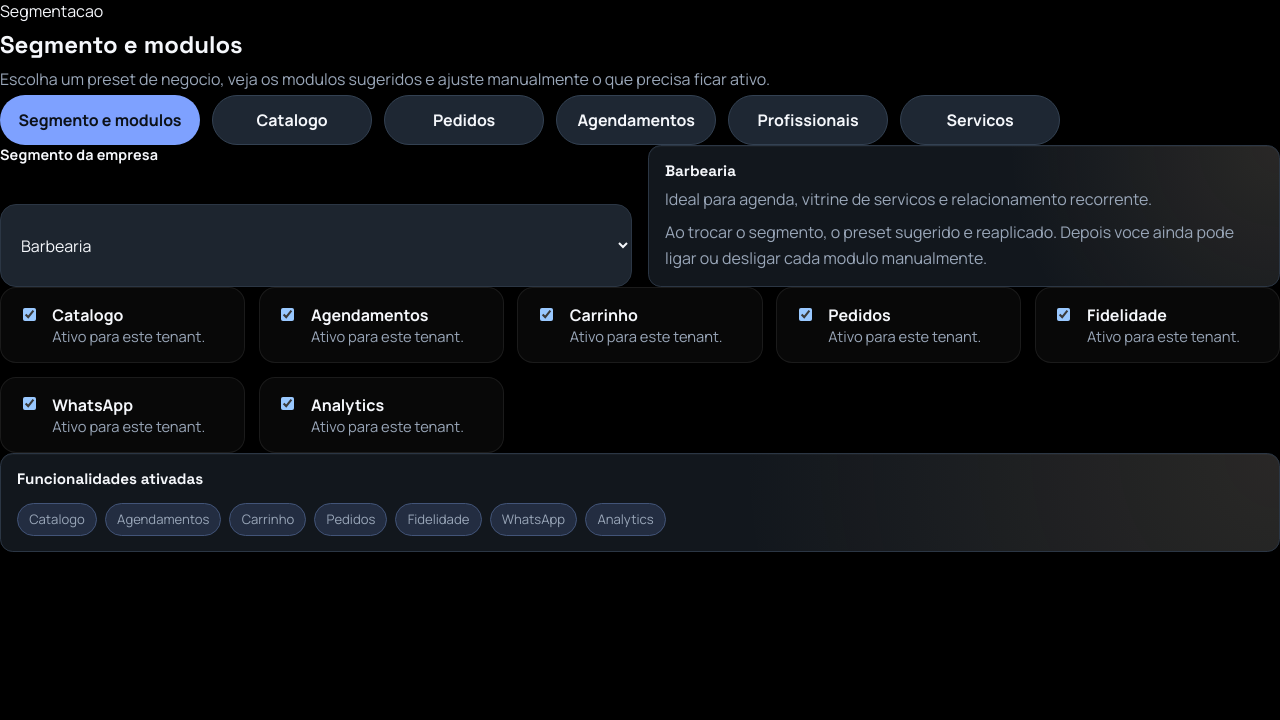
Scenario: TenantModuleManagementSection › filters catalog products in the management panel with a local search field
The image size is (1280, 720).
Click the button "Catalogo" at (292, 120), box left=212, top=95, right=372, bottom=145
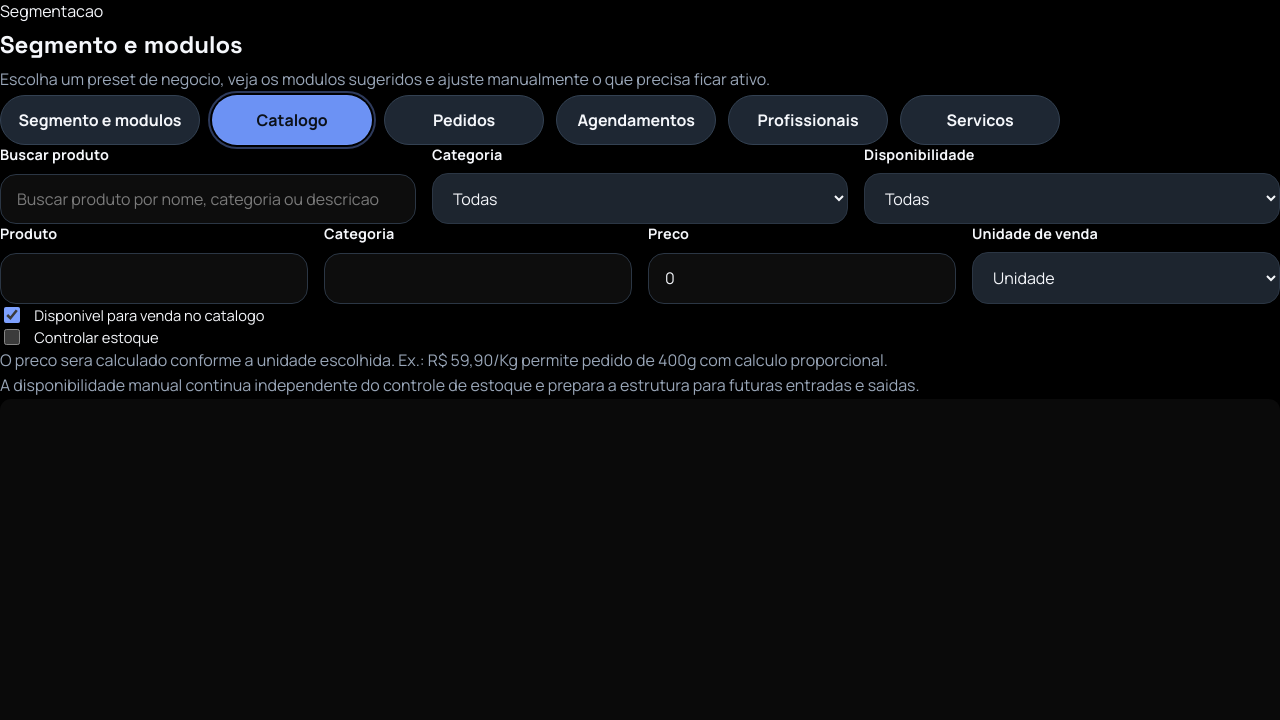
Type "churrasco" into the search field with placeholder "Buscar produto por nome, categoria ou descricao" at (208, 199), box left=0, top=174, right=416, bottom=224
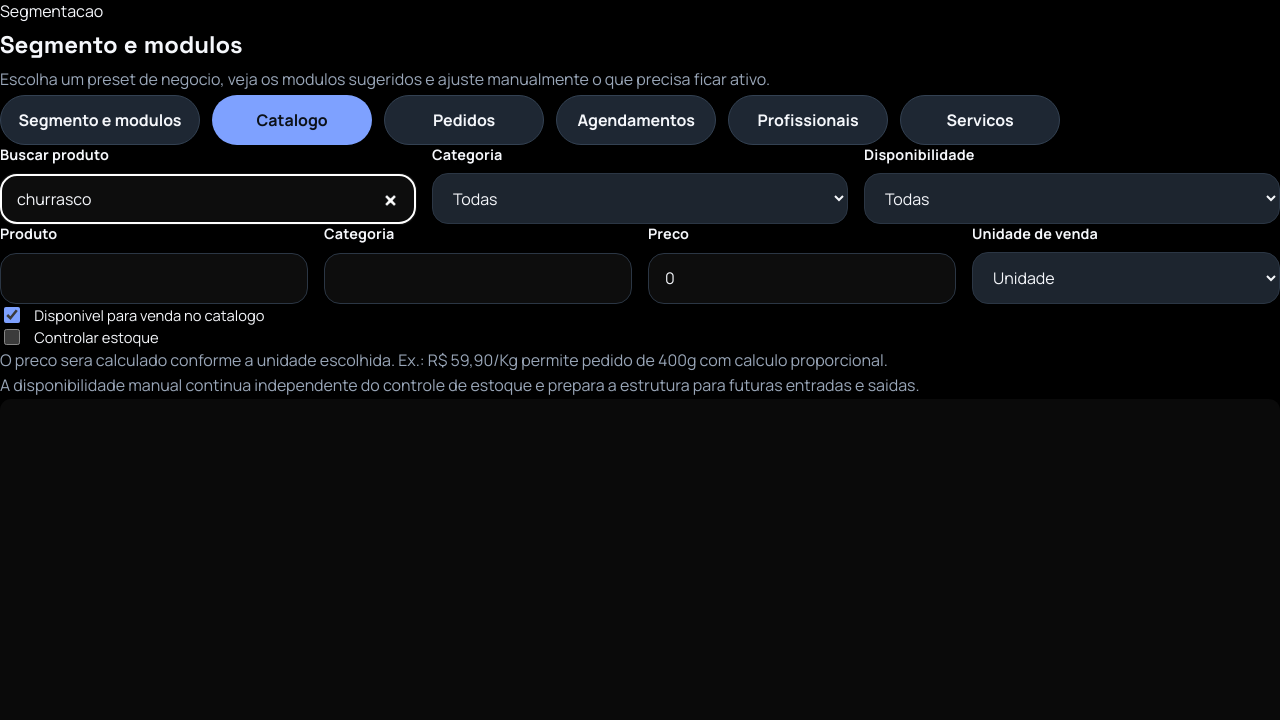
Replace the text in the search field with placeholder "Buscar produto por nome, categoria ou descricao" with "nao existe" at (208, 199), box left=0, top=174, right=416, bottom=224
(page scrolled)
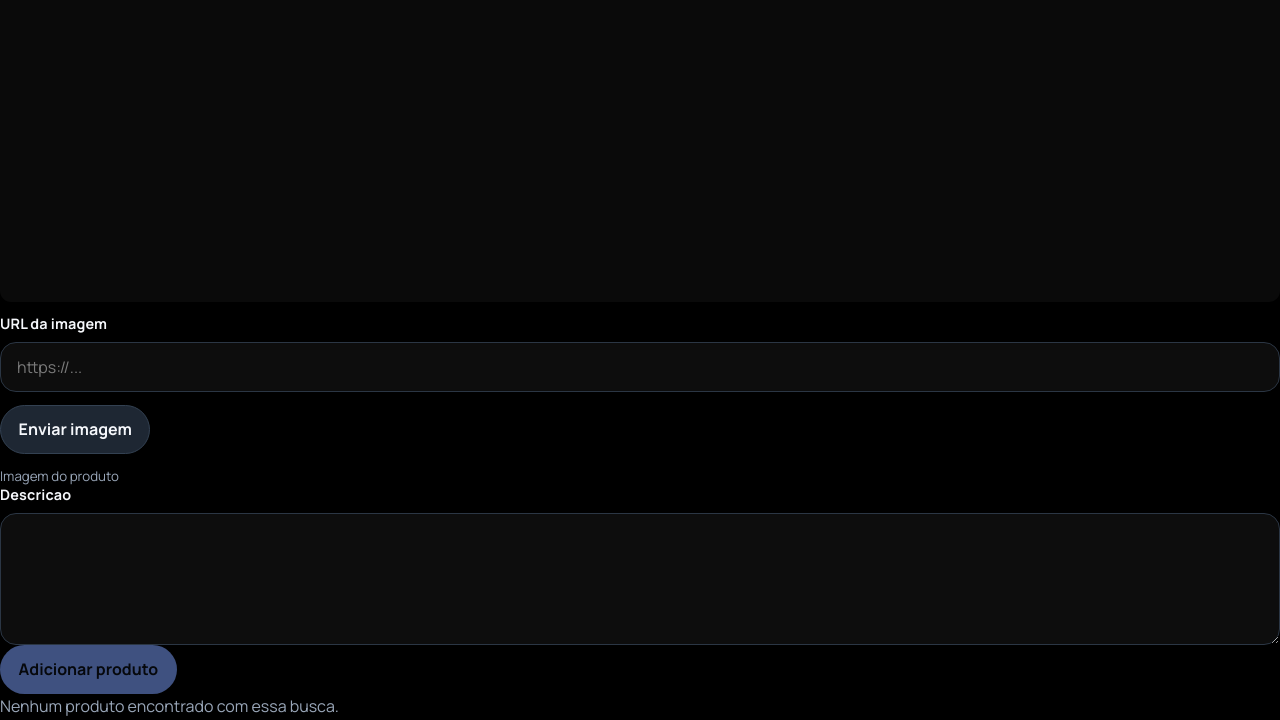
Result: the text "Nenhum produto encontrado com essa busca." is shown at left=0, top=695, right=339, bottom=717
